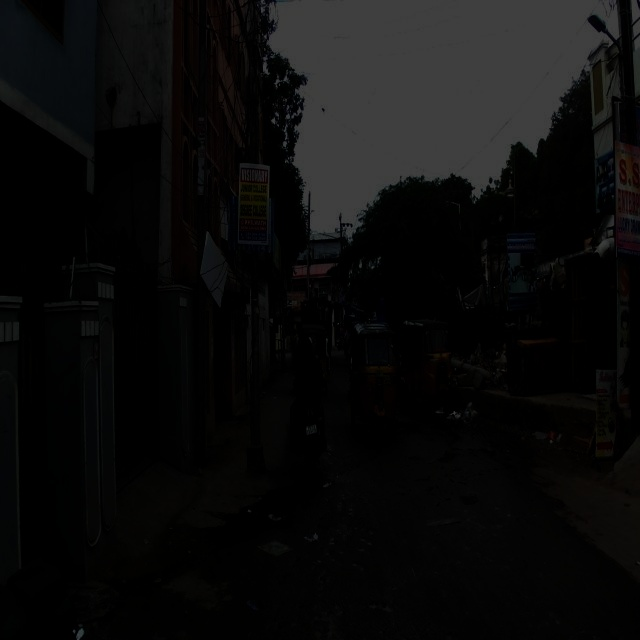Pothole: (394, 420, 426, 438), (348, 558, 369, 574), (436, 448, 457, 464), (357, 533, 373, 549), (309, 557, 323, 569), (320, 480, 336, 490), (382, 603, 396, 614), (346, 501, 354, 518), (327, 535, 336, 546), (368, 602, 379, 610)
